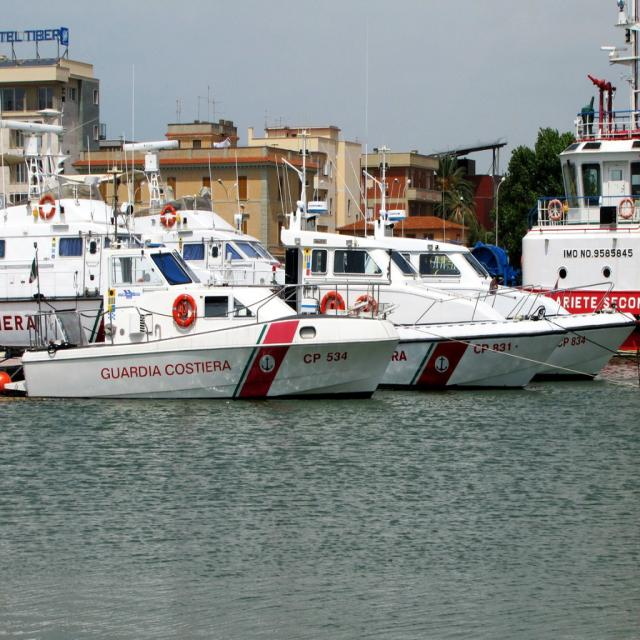Boat: (21, 62, 401, 400), (206, 128, 568, 394), (318, 138, 636, 386), (514, 0, 640, 354), (120, 148, 288, 286)
